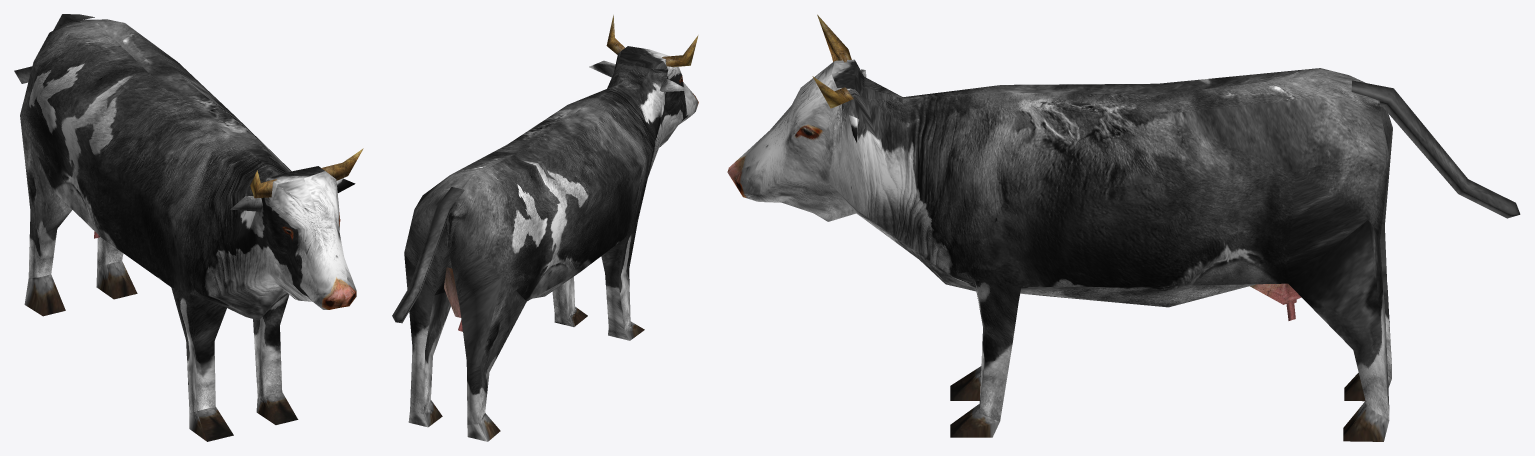
File: cow-stand-black-cbj_LOD02.gltf
3 renders of one model, left to right at view 1: azimuth 30°, elevation 25°; view 2: azimuth 150°, elevation 25°; view 3: azimuth 270°, elevation 25°, orthographic. The views are drawn at different scales.
Parts seen in each view (by area): view 1: Line01.003; view 2: Line01.003; view 3: Line01.003.
Boxes of the visible parts, x1,y1,x2,y2 form: Line01.003: (14,14,363,441); Line01.003: (392,15,698,441); Line01.003: (727,14,1520,441).
Bounding box in the file's own units: 0.8228 × 1.79 × 3.5.
